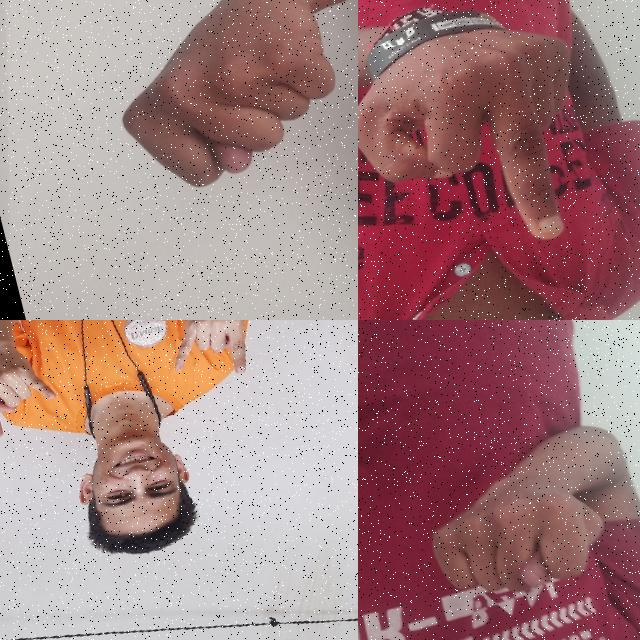Corna: (148, 320, 265, 399), (0, 321, 68, 454)
Dulya: (89, 0, 358, 205), (410, 445, 634, 616)
Middle Finger: (358, 0, 618, 289)
